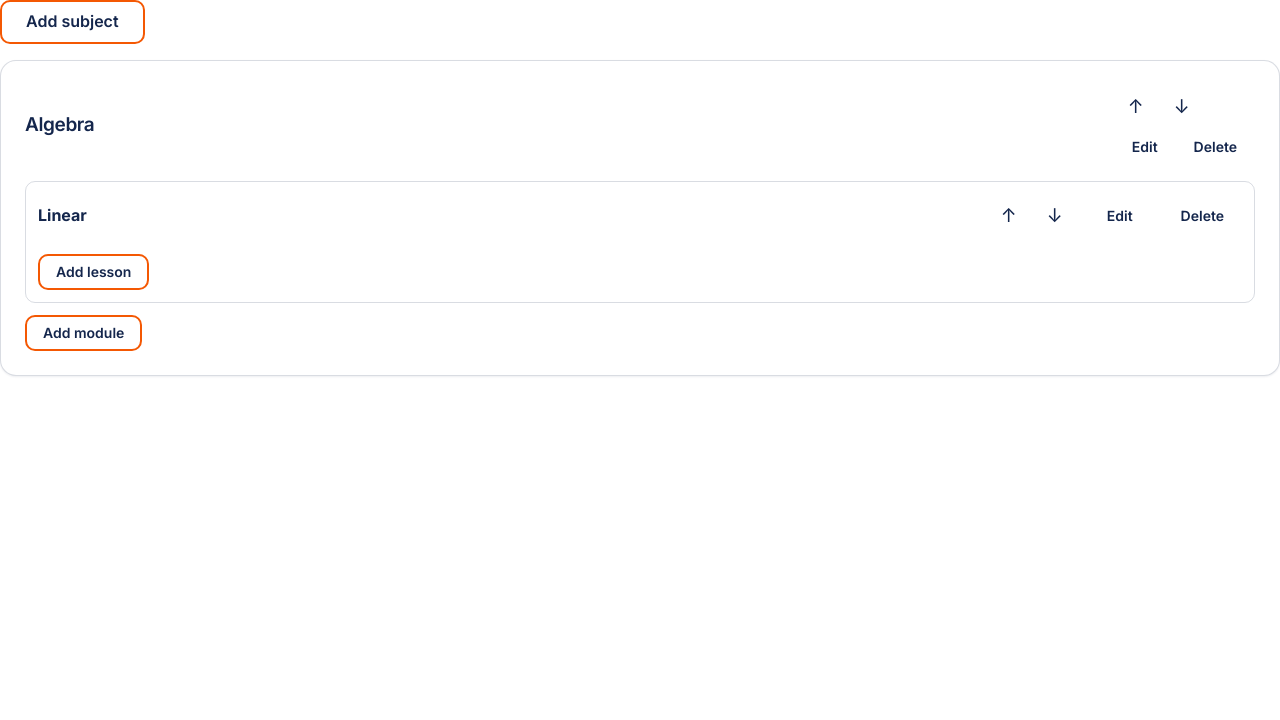
choosing Live shows date, duration, Meet link and batch, and hides free preview
The width and height of the screenshot is (1280, 720).
Click the button "Add lesson".
click(94, 272)  # box [38,254,149,290]
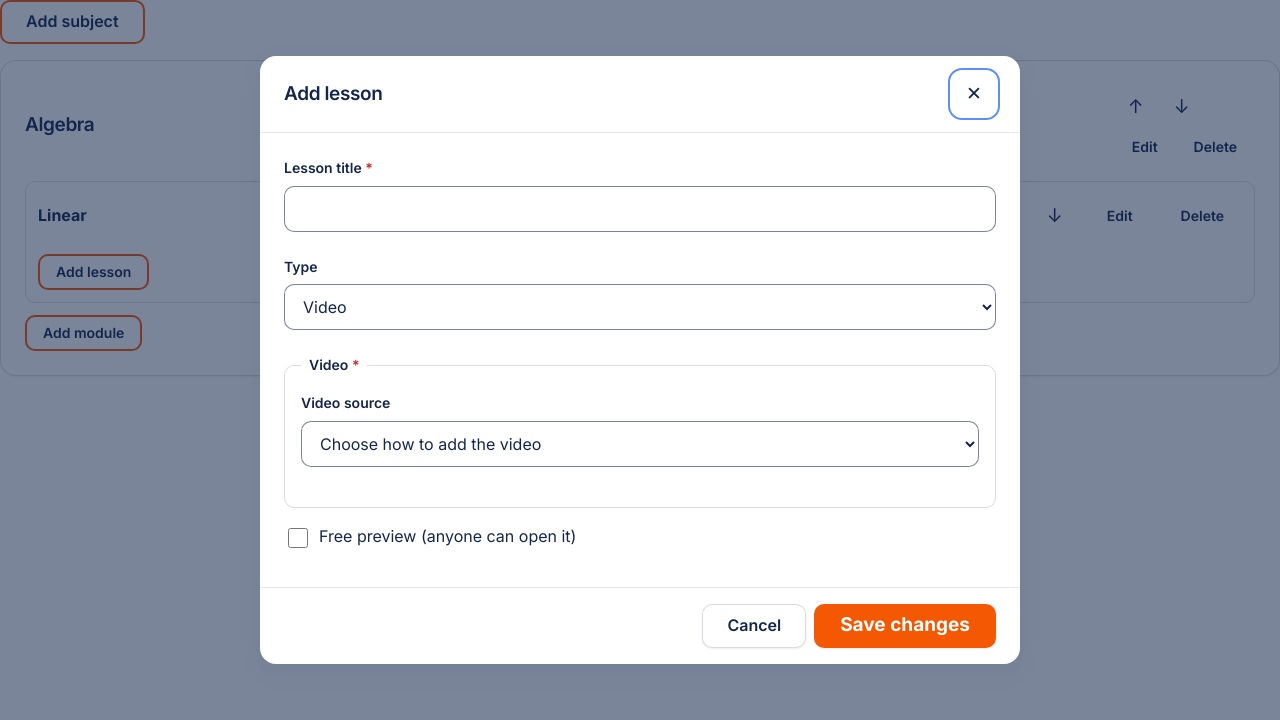
Result: the checkbox labelled "Free preview (anyone can open it)" is shown at [288,528,308,548]
Select "Live class" in the dropdown labelled "Type" at (640, 307), box [284,284,996,330]
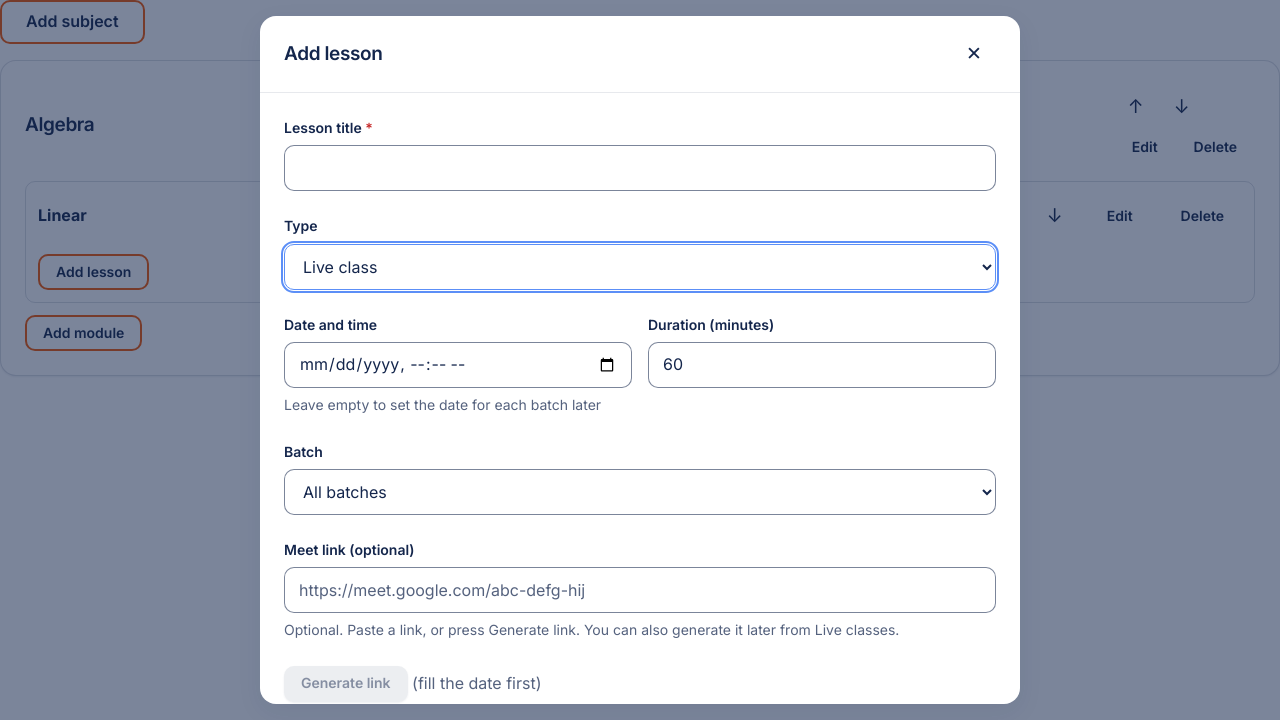
Result: the field labelled "Date and time" is shown at [284,342,632,388]
Result: the number field labelled "Duration (minutes)" is shown at [648,342,996,388]
Result: the field labelled "Meet link (optional)" is shown at [284,567,996,613]
